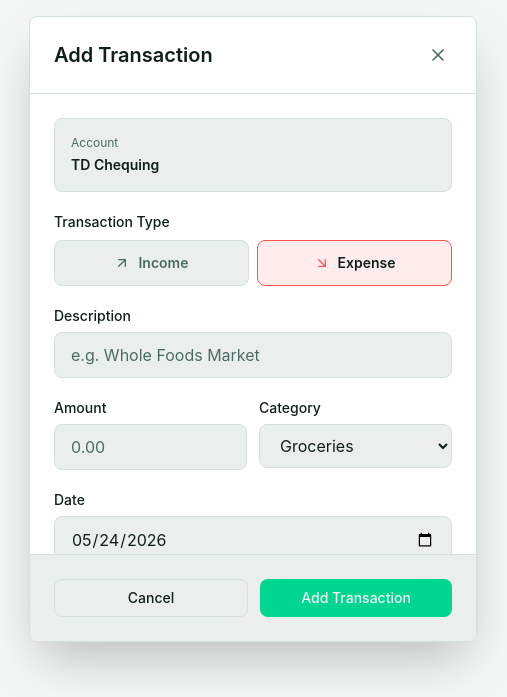
Test case: AddTransactionModal — validation › shows error when amount is negative
Step 1. Type "Test" into the field with placeholder "e.g. Whole Foods Market" → (253,355), box [54, 332, 452, 378]
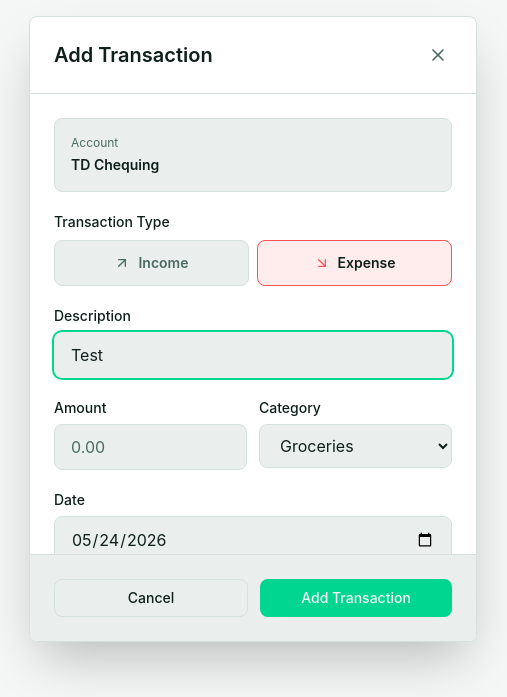
Step 2. Type "-10" into the number field with placeholder "0.00" → (150,447), box [54, 424, 247, 470]
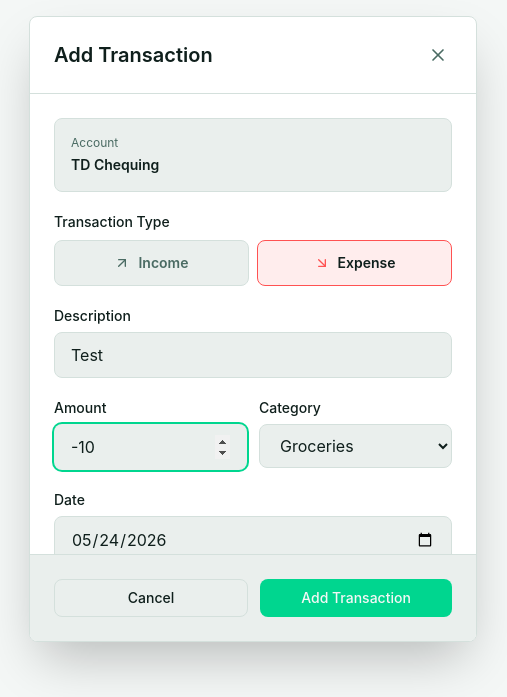
Step 3. Click the button "Add Transaction" → (356,598), box [260, 579, 452, 617]
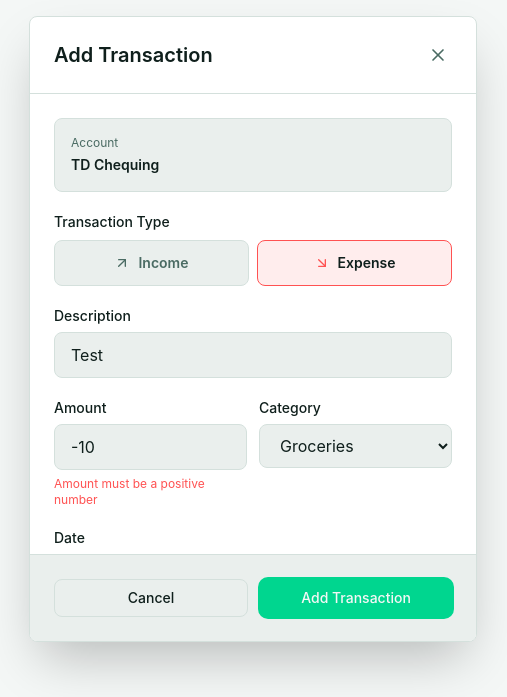
Now the text "Amount must be a positive number" is shown, box [54, 476, 205, 507]
